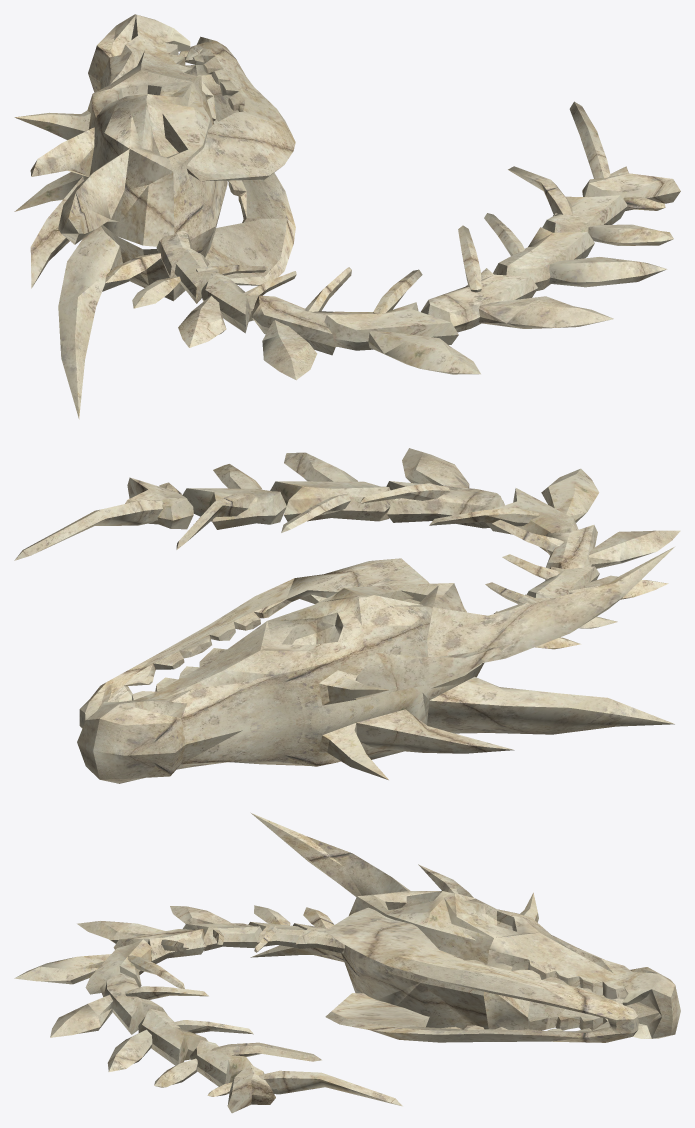
The model's file is TW2_5_BONES_01_8-transformed.glb.
3 renders of one model, top to bottom at view 1: azimuth 30°, elevation 25°; view 2: azimuth 150°, elevation 25°; view 3: azimuth 270°, elevation 25°, orthographic. The views are drawn at different scales.
Parts seen in each view (by area): view 1: 5_BONES_01_8; view 2: 5_BONES_01_8; view 3: 5_BONES_01_8.
Part boxes in pixels (left/top/right/bottom): 5_BONES_01_8: left=14, top=14, right=680, bottom=419; 5_BONES_01_8: left=14, top=448, right=680, bottom=783; 5_BONES_01_8: left=14, top=812, right=680, bottom=1113.
Size of the model in its own units: 2.95 by 0.8846 by 3.69.
1 material, 1 textured.
